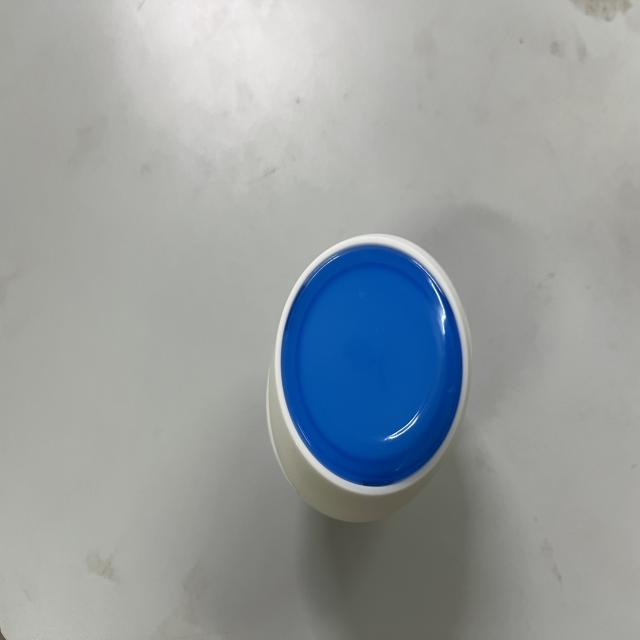L1: (252, 208, 480, 536)
